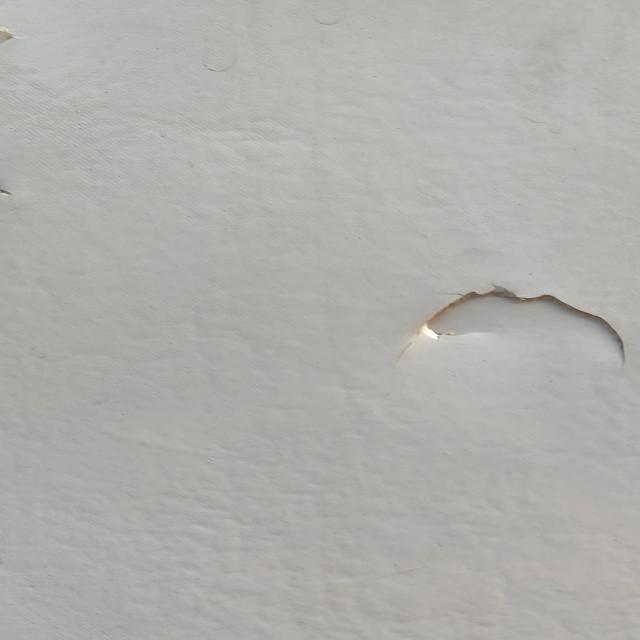Scratches: (398, 272, 635, 371)
